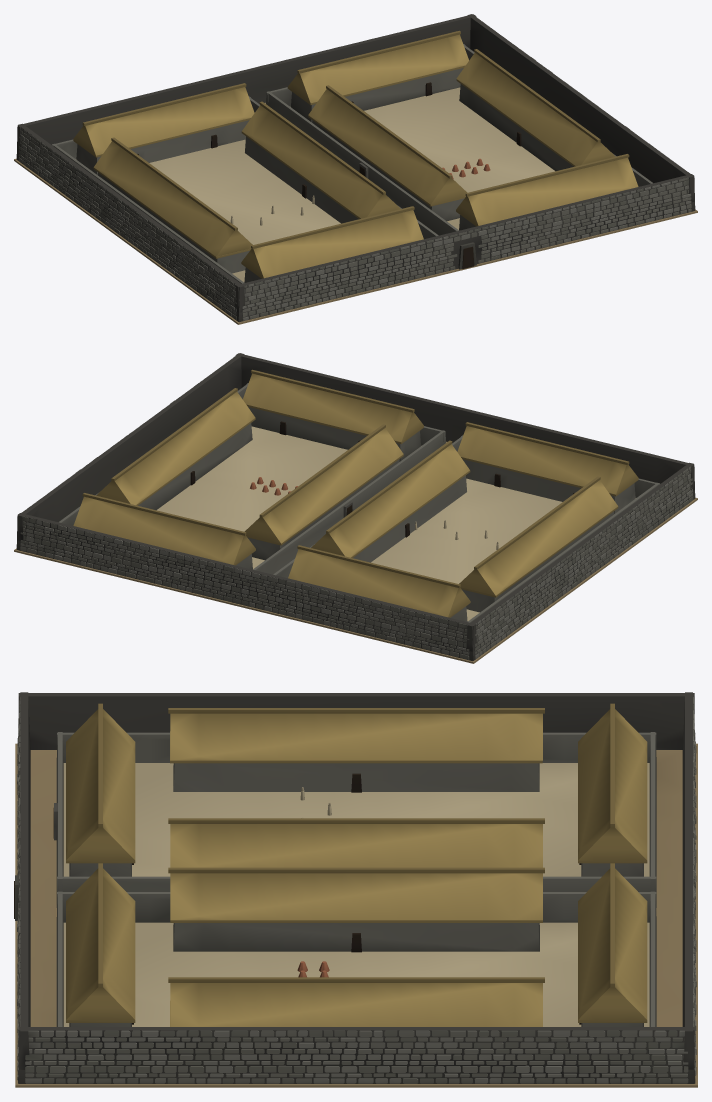
Rendered from aqllawasi.glb.
3 renders of one model, top to bottom at view 1: azimuth 30°, elevation 25°; view 2: azimuth 150°, elevation 25°; view 3: azimuth 270°, elevation 25°, orthographic. The views are drawn at different scales.
Parts seen in each view (by area): view 1: p1_walls, p2_roofs, p0_ground; view 2: p1_walls, p2_roofs, p0_ground; view 3: p1_walls, p2_roofs, p0_ground.
Part boxes in pixels (x1,y1,x2,y2): p1_walls: (16, 14, 695, 322); p2_roofs: (73, 30, 638, 278); p0_ground: (14, 102, 697, 324); p1_walls: (16, 353, 695, 661); p2_roofs: (73, 369, 638, 617); p0_ground: (14, 441, 697, 663); p1_walls: (14, 692, 696, 1083); p2_roofs: (66, 703, 647, 1026); p0_ground: (15, 743, 697, 1087).
Size of the model in its own units: 90 by 8.99 by 76.15.
